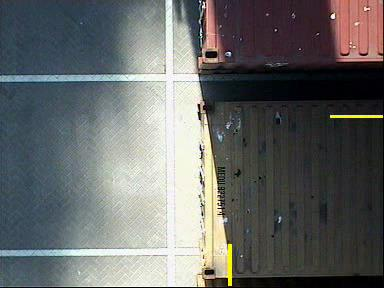groundmarker_2: (142, 70, 198, 111), (141, 216, 197, 256)
